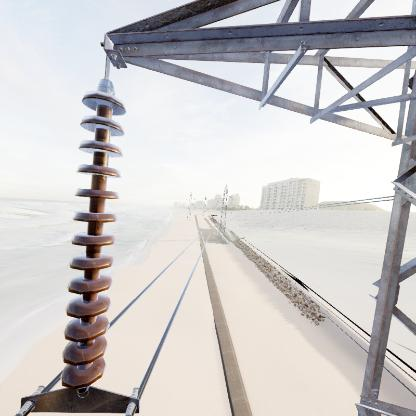insulator: (57, 85, 130, 389)
